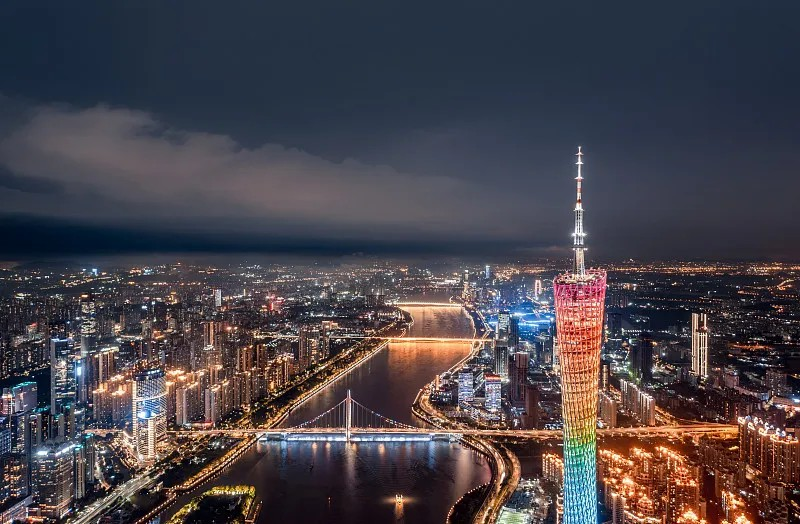Canton: (548, 140, 611, 523)
